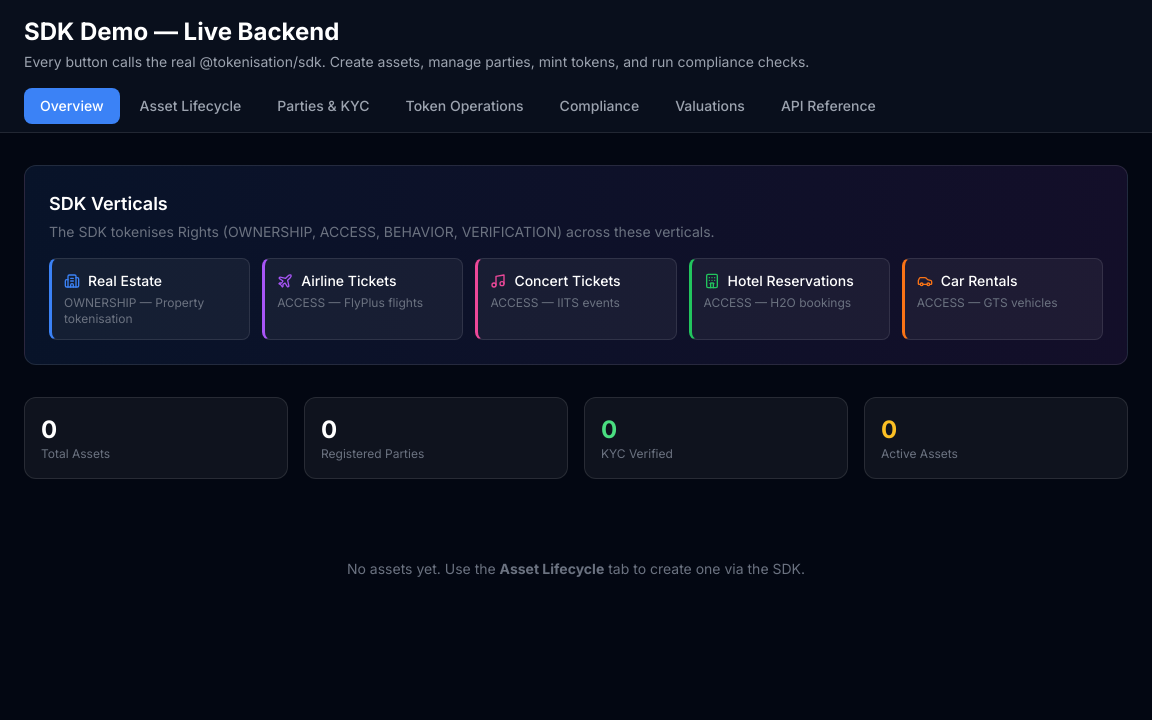
Test: Smoke Tests — UIKitDemo Page › should switch to Parties & KYC tab
What coordinates should you click on to do the following:
click the button "Parties & KYC"
I would click on:
 (323, 106)
Its box is [261, 88, 386, 124].
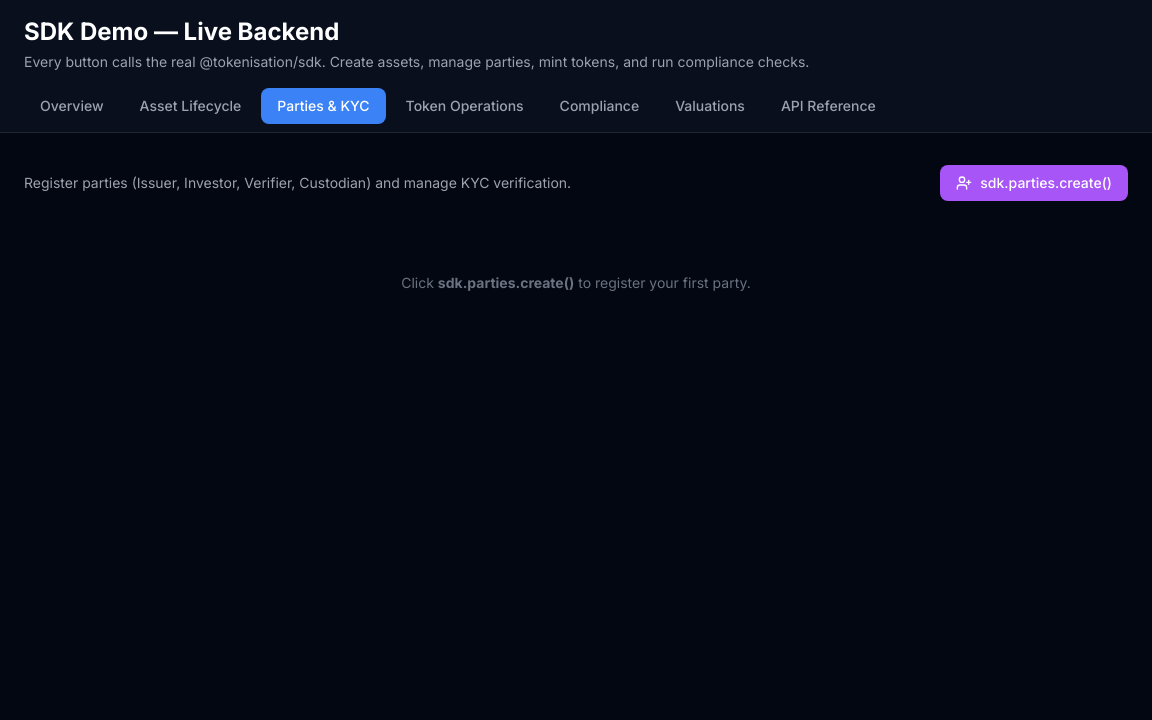
Now the button "sdk.parties.create()" is shown, box [940, 165, 1128, 201]
